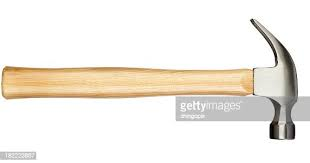hammer: (1, 18, 298, 141)
